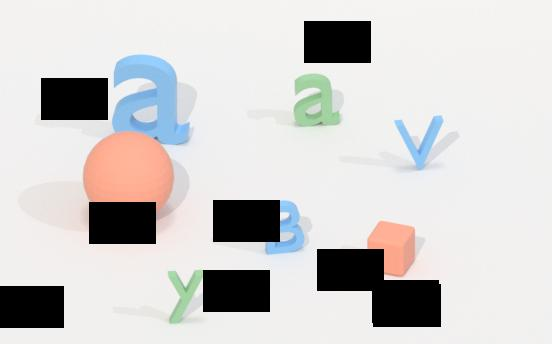Y: (164, 266, 210, 327)
a: (108, 53, 193, 147), (289, 71, 344, 128)
b: (261, 198, 309, 257)
cau: (76, 131, 182, 224)
hop: (362, 217, 421, 279)
v: (389, 113, 449, 174)
